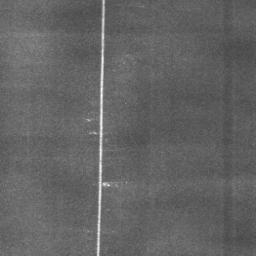Bright scratch: (97, 0, 105, 256)
